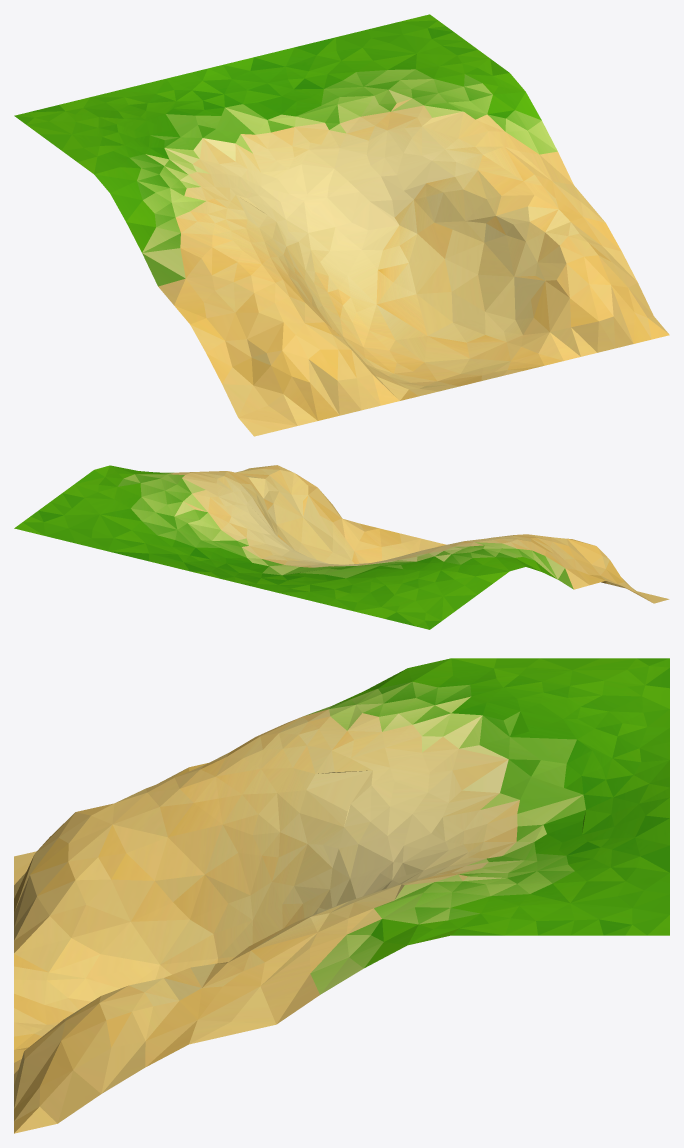
File: GL-Terrain-part-03-LOD2.fbx
The picture shows the model from 3 angles, top to bottom: view 1: azimuth 30°, elevation 25°; view 2: azimuth 150°, elevation 25°; view 3: azimuth 270°, elevation 25°; orthographic projection. The views are drawn at different scales.
Visible parts, largest first — view 1: GL_Terrain_part_03; view 2: GL_Terrain_part_03; view 3: GL_Terrain_part_03.
Part boxes in pixels (bbox=[...]): GL_Terrain_part_03: bbox=[14, 14, 669, 436]; GL_Terrain_part_03: bbox=[14, 465, 669, 629]; GL_Terrain_part_03: bbox=[14, 658, 669, 1133].
Bounding box in the file's own units: 18 × 6.83 × 18.
